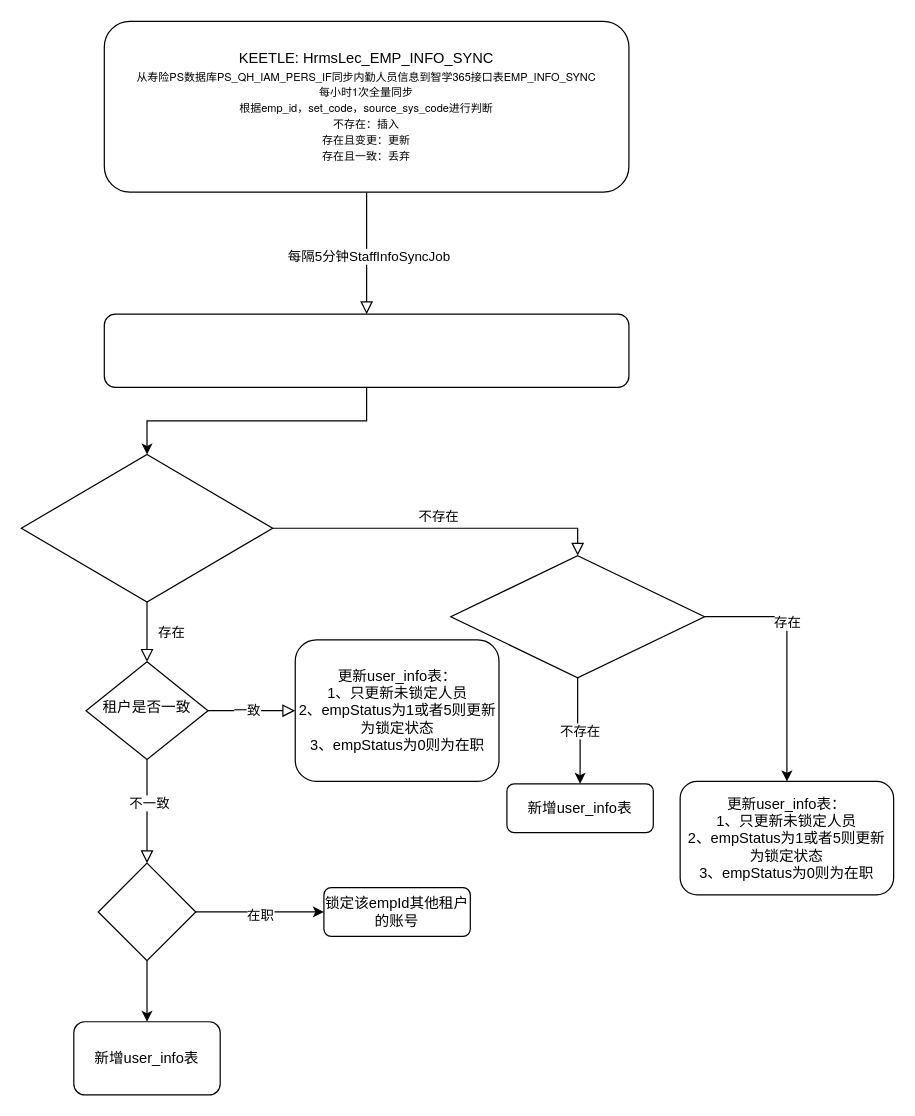
Some shapes in this 915 by 1116 pixel diagram are drawn without their labels. The centre of each missing label's shape, as x and y in pixels:
从EMP_INFO_SYNC表取sync_status = 'N' 且 source_sys_code = ‘hrms’的数据按入库时间先后进行处理: point 366,350
当前用户是否在职: point 146,911
根据emp_id判断 是否在user_info表存在该用户， 且data_sourece=1: point 146,527
根据emp_no和set_code 查找是否在user_info表存在: point 577,616
